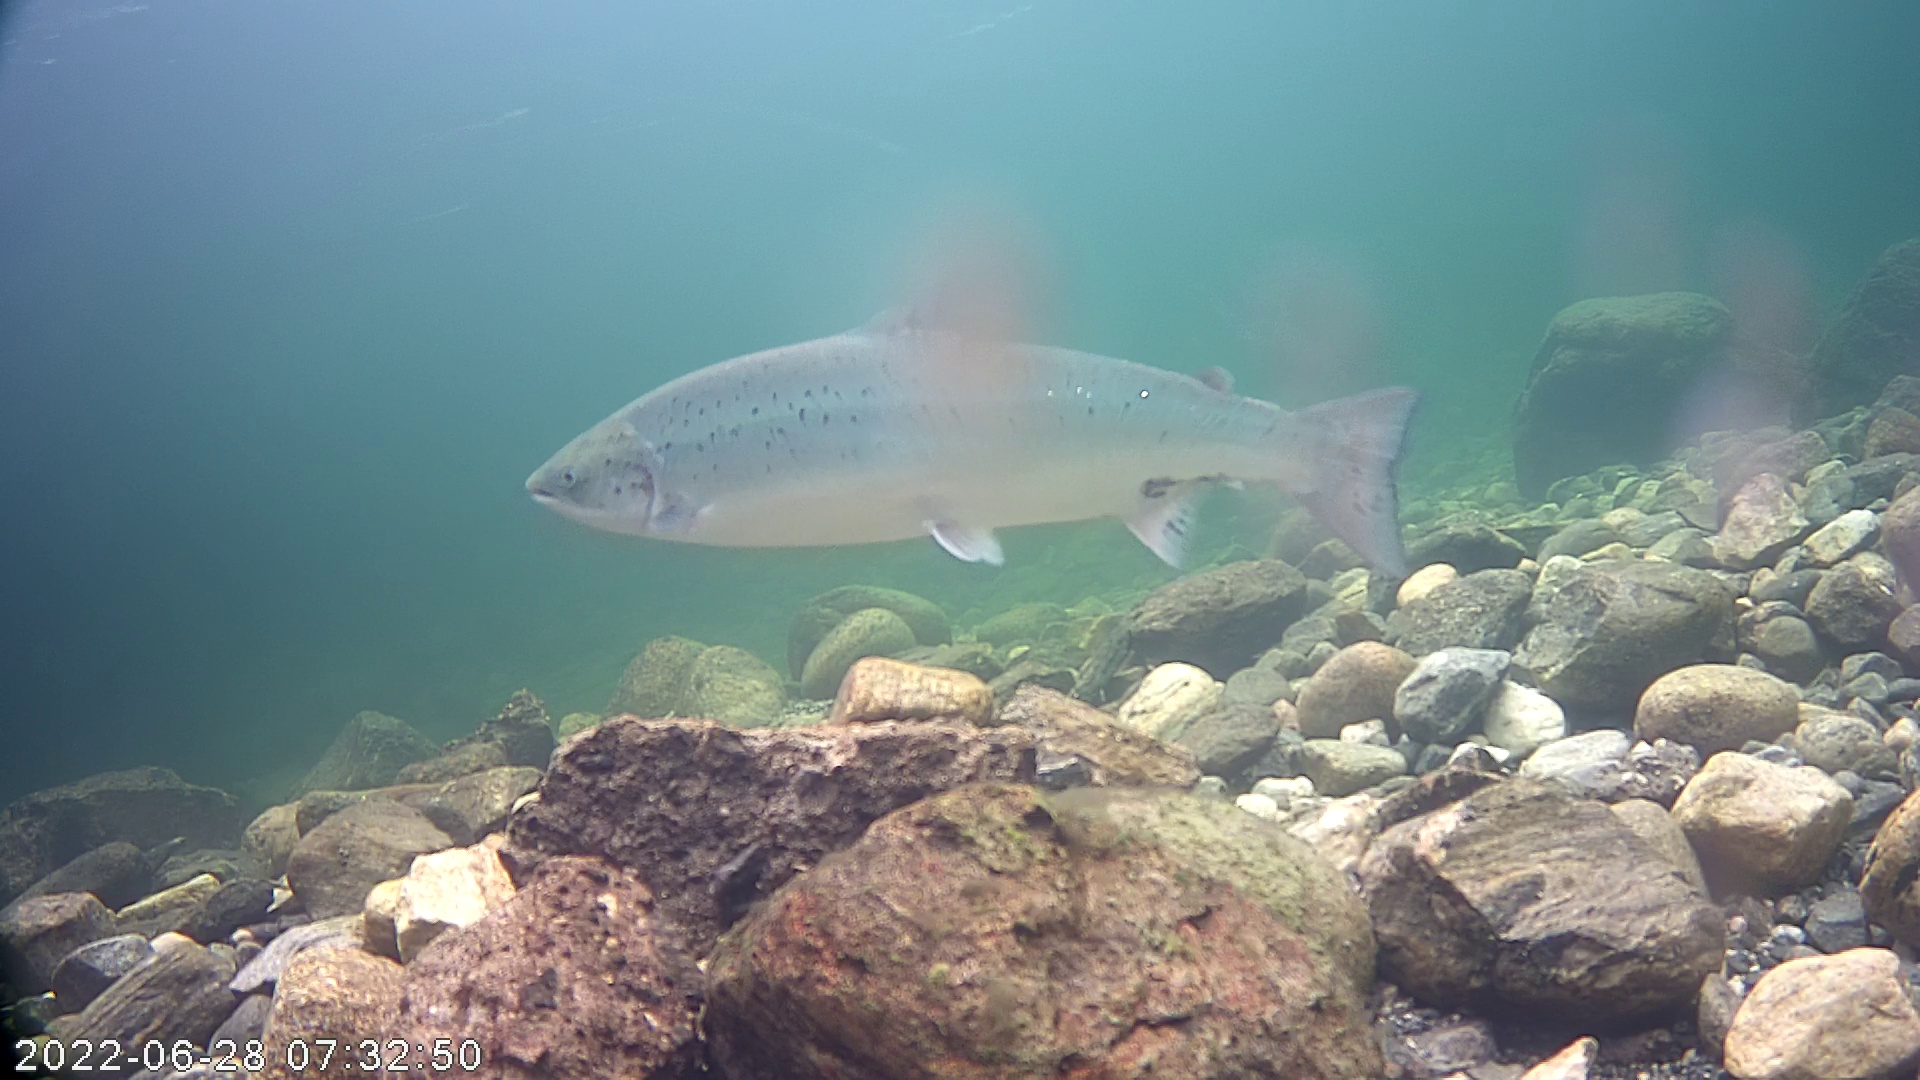salmon: (516, 208, 1449, 626)
